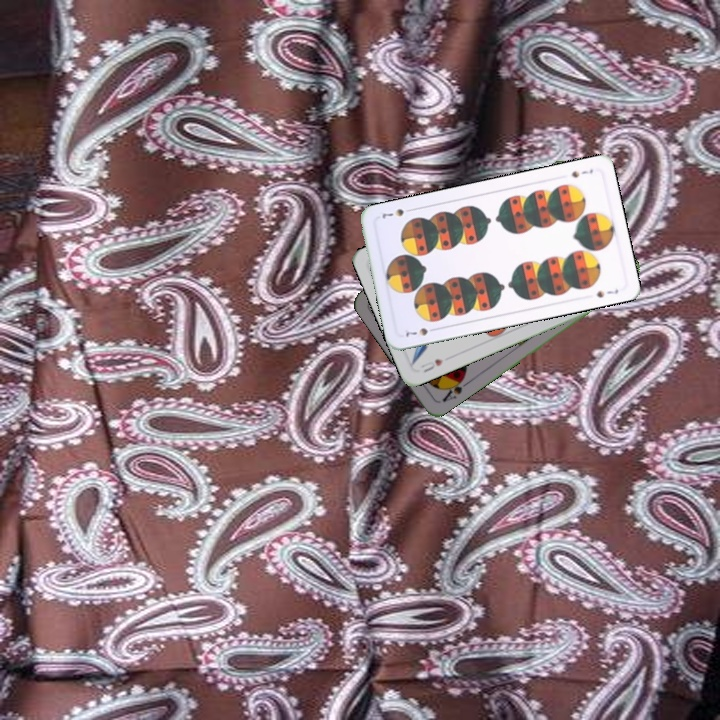HU: (417, 355, 446, 375)
S7: (402, 324, 440, 339), (567, 165, 595, 180)
SA: (438, 372, 472, 405)
